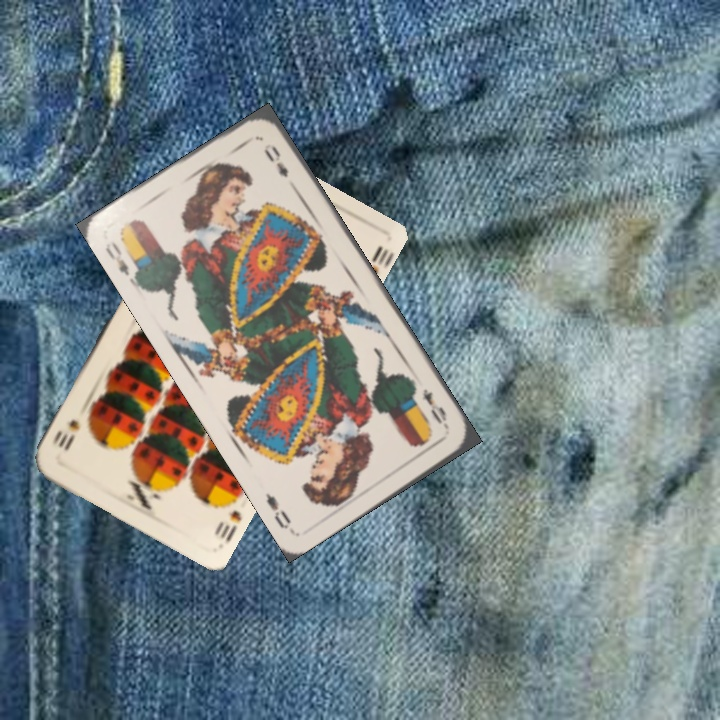EO: (101, 234, 142, 287), (418, 384, 452, 432)
S10: (210, 506, 245, 545)
